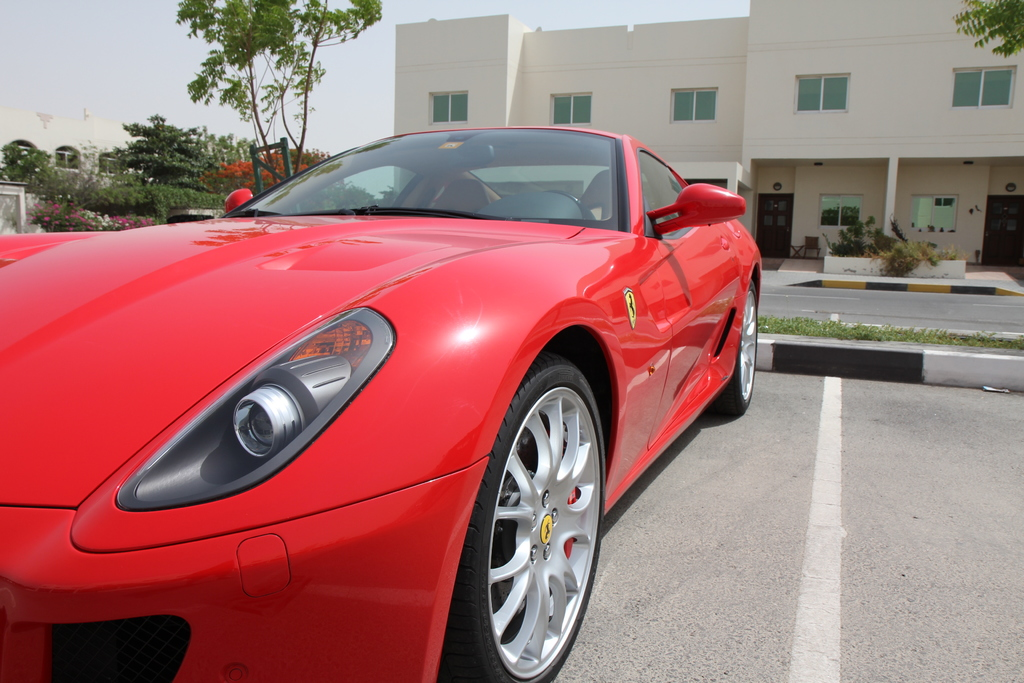Car: (0, 124, 761, 682)
